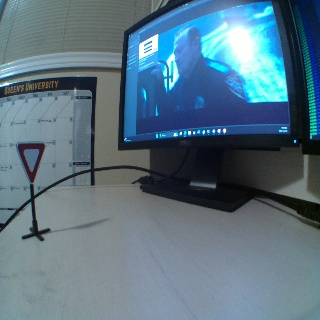sign_yield: (15, 141, 52, 183)
